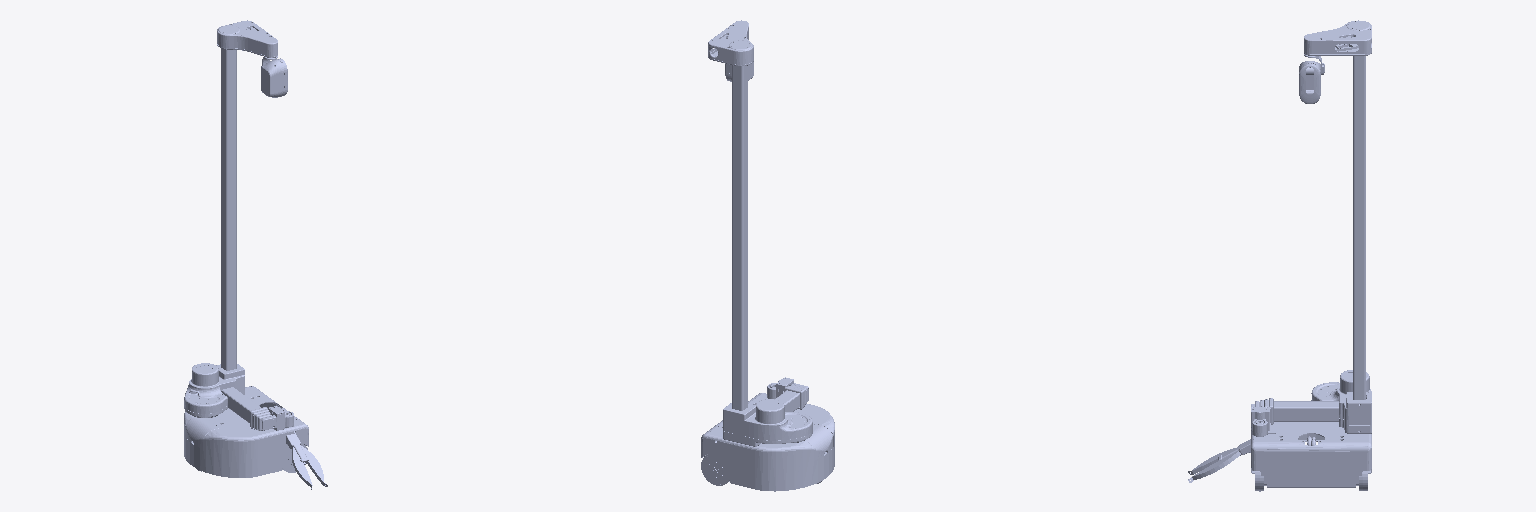
--- Facts derived from the render (not from the file) ---
Views: 3 orthographic renders of the robot side by side, from view 1: azimuth 30°, elevation 25°; view 2: azimuth 150°, elevation 25°; view 3: azimuth 270°, elevation 25°.
Robot: stretch_description — 37 links, 36 joints (5 revolute, 2 continuous, 5 prismatic, 24 fixed); root link base_link; default pose: all joints at 0.
Links seen in each view (by area): view 1: base_link, link_mast, link_lift, link_head, link_head_tilt, link_arm_l4, link_arm_l0; view 2: base_link, link_mast, link_lift, link_head, link_left_wheel; view 3: base_link, link_mast, link_lift, link_head, link_arm_l4, link_head_tilt.
Link boxes in pixels (x1,y1,x2,y2): base_link: [184, 386, 308, 477]; link_mast: [221, 48, 236, 370]; link_lift: [184, 363, 244, 417]; link_head: [217, 20, 277, 57]; link_head_tilt: [261, 58, 287, 97]; link_arm_l4: [221, 387, 267, 428]; link_arm_l0: [261, 406, 293, 430]; base_link: [701, 393, 834, 491]; link_mast: [732, 65, 747, 410]; link_lift: [723, 399, 812, 446]; link_head: [708, 20, 753, 65]; link_left_wheel: [701, 454, 729, 485]; base_link: [1251, 422, 1371, 487]; link_mast: [1353, 37, 1365, 399]; link_lift: [1311, 370, 1371, 433]; link_head: [1304, 20, 1371, 55]; link_arm_l4: [1269, 398, 1338, 424]; link_head_tilt: [1299, 61, 1320, 103].
Size in the robot's own frame: 0.3273 by 0.5191 by 1.41 metres.
Meshes: 27 distinct files referenced, 22 mesh visuals loaded (22 binary STL); not drawn: 5 (reference not matched to a file when rendering).

robot.urdf — stretch_description:
<?xml version="1.0" ?>
<!-- =================================================================================== -->
<!-- |    This document was autogenerated by xacro from stretch_description.xacro      | -->
<!-- |    EDITING THIS FILE BY HAND IS NOT RECOMMENDED                                 | -->
<!-- =================================================================================== -->
<robot name="stretch_description" xmlns:xacro="http://www.ros.org/wiki/xacro">
  <link name="link_gripper">
    <inertial>
      <origin rpy="0 0 0" xyz="-0.0170229132730066 0.0131410320934285 -0.0371614759484659"/>
      <mass value="0.101902711393094"/>
      <inertia ixx="2.79241618017607E-05" ixy="-1.10819247449605E-05" ixz="-1.50343284036654E-05" iyy="3.67945130513069E-05" iyz="-4.33280448535579E-06" izz="4.14524691955231E-05"/>
    </inertial>
    <visual>
      <origin rpy="0 0 0" xyz="0 0 0"/>
      <geometry>
        <mesh filename="meshes/link_gripper.STL"/>
      </geometry>
      <material name="">
        <color rgba="0.792156862745098 0.819607843137255 0.933333333333333 1"/>
      </material>
    </visual>
    <collision>
      <origin rpy="0 0 0" xyz="0 0 0"/>
      <geometry>
        <mesh filename="meshes/link_gripper.STL"/>
      </geometry>
    </collision>
  </link>
  <!-- rpy="3.1416 0 1.5708" -->
  <!-- rpy="0.0 0 1.5708" -->
  <joint name="joint_gripper" type="fixed">
    <origin rpy="3.14159 0 -1.5708" xyz="0 0 0"/>
    <parent link="link_wrist_yaw"/>
    <child link="link_gripper"/>
    <axis xyz="0 0 0"/>
  </joint>
  <link name="link_gripper_finger_left">
    <inertial>
      <origin rpy="0 0 0" xyz="0.0945047483510102 0.0124301080924361 -4.44089209850063E-16"/>
      <mass value="0.0476207785199474"/>
      <inertia ixx="0" ixy="0" ixz="0" iyy="0" iyz="0" izz="0"/>
    </inertial>
    <visual>
      <origin rpy="0 0 0" xyz="0 0 0"/>
      <geometry>
        <mesh filename="meshes/link_gripper_finger_left.STL" scale="0.9 1.0 1.0"/>
      </geometry>
      <material name="">
        <color rgba="0.792156862745098 0.819607843137255 0.933333333333333 1"/>
      </material>
    </visual>
    <collision>
      <origin rpy="0 0 0" xyz="0 0 0"/>
      <geometry>
        <mesh filename="meshes/link_gripper_finger_left.STL" scale="0.9 1.0 1.0"/>
      </geometry>
    </collision>
  </link>
  <joint name="joint_gripper_finger_left" type="revolute">
    <origin rpy="2.1762E-15 0.5236 3.1416" xyz="-0.047231 -0.010151 -0.04679"/>
    <parent link="link_gripper"/>
    <child link="link_gripper_finger_left"/>
    <axis xyz="0 0 1"/>
    <limit effort="100" lower="-0.6" upper="0.6" velocity="1.0"/>
  </joint>
  <link name="link_gripper_fingertip_left">
    <inertial>
      <origin rpy="0 0 0" xyz="-3.16381381648689E-08 -2.91408530639359E-09 0.00812579670381812"/>
      <mass value="0.00382159917455729"/>
      <inertia ixx="0" ixy="0" ixz="0" iyy="0" iyz="0" izz="0"/>
    </inertial>
    <visual>
      <origin rpy="0 0 0" xyz="0 0 0"/>
      <geometry>
        <mesh filename="meshes/link_gripper_fingertip_left.STL"/>
      </geometry>
      <material name="">
        <color rgba="0.250980392156863 0.250980392156863 0.250980392156863 1"/>
      </material>
    </visual>
    <collision>
      <origin rpy="0 0 0" xyz="0 0 0"/>
      <geometry>
        <mesh filename="meshes/link_gripper_fingertip_left.STL"/>
      </geometry>
    </collision>
  </link>
  <joint name="joint_gripper_fingertip_left" type="fixed">
    <origin rpy="-1.5708 -4.774E-15 -2.5545" xyz="0.171099 0.014912 0"/>
    <parent link="link_gripper_finger_left"/>
    <child link="link_gripper_fingertip_left"/>
    <axis xyz="0 0 0"/>
  </joint>
  <link name="link_gripper_finger_right">
    <inertial>
      <origin rpy="0 0 0" xyz="-0.0945047483510099 -0.0124301080924345 0"/>
      <mass value="0.0476207785199481"/>
      <inertia ixx="0" ixy="0" ixz="0" iyy="0" iyz="0" izz="0"/>
    </inertial>
    <visual>
      <origin rpy="0 0 0" xyz="0 0 0"/>
      <geometry>
        <mesh filename="meshes/link_gripper_finger_right.STL" scale="0.9 1.0 1.0"/>
      </geometry>
      <material name="">
        <color rgba="0.792156862745098 0.819607843137255 0.933333333333333 1"/>
      </material>
    </visual>
    <collision>
      <origin rpy="0 0 0" xyz="0 0 0"/>
      <geometry>
        <mesh filename="meshes/link_gripper_finger_right.STL" scale="0.9 1.0 1.0"/>
      </geometry>
    </collision>
  </link>
  <joint name="joint_gripper_finger_right" type="revolute">
    <origin rpy="3.1416 -0.5236 1.2943E-15" xyz="-0.047231 0.010049 -0.04679"/>
    <parent link="link_gripper"/>
    <child link="link_gripper_finger_right"/>
    <axis xyz="0 0 1"/>
    <limit effort="100" lower="-0.6" upper="0.6" velocity="1.0"/>
  </joint>
  <link name="link_gripper_fingertip_right">
    <inertial>
      <origin rpy="0 0 0" xyz="2.59386303963494E-08 6.70949018566347E-09 0.00812579516130402"/>
      <mass value="0.00382160037319545"/>
      <inertia ixx="0" ixy="0" ixz="0" iyy="0" iyz="0" izz="0"/>
    </inertial>
    <visual>
      <origin rpy="0 0 0" xyz="0 0 0"/>
      <geometry>
        <mesh filename="meshes/link_gripper_fingertip_right.STL"/>
      </geometry>
      <material name="">
        <color rgba="0.250980392156863 0.250980392156863 0.250980392156863 1"/>
      </material>
    </visual>
    <collision>
      <origin rpy="0 0 0" xyz="0 0 0"/>
      <geometry>
        <mesh filename="meshes/link_gripper_fingertip_right.STL"/>
      </geometry>
    </collision>
  </link>
  <joint name="joint_gripper_fingertip_right" type="fixed">
    <origin rpy="-1.5708 -2.0539E-15 0.58705" xyz="-0.171099 -0.014912 0"/>
    <parent link="link_gripper_finger_right"/>
    <child link="link_gripper_fingertip_right"/>
    <axis xyz="0 0 0"/>
  </joint>
  <link name="link_grasp_center">
    <inertial>
      <origin rpy="0 0 0" xyz="0 0 0"/>
      <mass value="0.1"/>
      <inertia ixx="1" ixy="0" ixz="0" iyy="1" iyz="0" izz="1"/>
    </inertial>
  </link>
  <joint name="joint_grasp_center" type="fixed">
    <origin rpy="0 0 3.141579" xyz="-0.205478 0 -0.138154"/>
    <parent link="link_gripper"/>
    <child link="link_grasp_center"/>
  </joint>
  <link name="base_link">
    <inertial>
      <origin rpy="0 0 0" xyz="-0.109461304328163 -0.000741018909047708 0.0914915269429946"/>
      <mass value="1.0723782659782"/>
      <inertia ixx="0.00310580907710135" ixy="1.5182848191076E-06" ixz="0.00041690466732394" iyy="0.00433798719991832" iyz="1.33487716258445E-05" izz="0.0037204727467362"/>
    </inertial>
    <visual>
      <origin rpy="0 0 0" xyz="0 0 0"/>
      <geometry>
          <mesh filename="meshes/base_link.STL"/> <!--scale="0.98 0.98 0.98"/>-->
      </geometry>
      <material name="">
        <color rgba="0.792156862745098 0.819607843137255 0.933333333333333 1"/>
      </material>
    </visual>
    <collision>
      <origin rpy="0 0 0" xyz="0 0 0"/>
      <geometry>
          <mesh filename="meshes/base_link.STL"/> <!--scale="0.98 0.98 0.98"/>-->
      </geometry>
    </collision>
  </link>
  <link name="link_right_wheel">
    <inertial>
      <origin rpy="0 0 0" xyz="1.25554620866719E-07 3.54748938447003E-07 0.0239581106165018"/>
      <mass value="0.00356714564938475"/>
      <inertia ixx="0" ixy="0" ixz="0" iyy="0" iyz="0" izz="0"/>
    </inertial>
    <visual>
      <origin rpy="0 0 0" xyz="0 0 0"/>
      <geometry>
        <mesh filename="meshes/link_right_wheel.STL"/>
      </geometry>
      <material name="">
        <color rgba="0.792156862745098 0.819607843137255 0.933333333333333 1"/>
      </material>
    </visual>
    <collision>
      <origin rpy="0 0 0" xyz="0 0 0"/>
      <geometry>
        <mesh filename="meshes/link_right_wheel.STL"/>
      </geometry>
    </collision>
  </link>
  <joint name="joint_right_wheel" type="continuous">
    <origin rpy="-1.57079632679489 -1.11022302462516E-16 7.28583859910277E-17" xyz="-0.003 -0.15765 0.0508"/>
    <parent link="base_link"/>
    <child link="link_right_wheel"/>
    <axis xyz="0 0 1"/>
  </joint>
  <link name="link_left_wheel">
    <inertial>
      <origin rpy="0 0 0" xyz="1.2555462092223E-07 -3.54748938502514E-07 -0.0239581106165035"/>
      <mass value="0.00356714564938459"/>
      <inertia ixx="0" ixy="0" ixz="0" iyy="0" iyz="0" izz="0"/>
    </inertial>
    <visual>
      <origin rpy="0 0 0" xyz="0 0 0"/>
      <geometry>
        <mesh filename="meshes/link_left_wheel.STL"/>
      </geometry>
      <material name="">
        <color rgba="0.792156862745098 0.819607843137255 0.933333333333333 1"/>
      </material>
    </visual>
    <collision>
      <origin rpy="0 0 0" xyz="0 0 0"/>
      <geometry>
        <mesh filename="meshes/link_left_wheel.STL"/>
      </geometry>
    </collision>
  </link>
  <joint name="joint_left_wheel" type="continuous">
    <origin rpy="-1.5707963267949 3.16227047920818E-31 7.88745438253713E-16" xyz="-0.003 0.15765 0.0508"/>
    <parent link="base_link"/>
    <child link="link_left_wheel"/>
    <axis xyz="0 0 1"/>
  </joint>
  <link name="link_mast">
    <inertial>
      <origin rpy="0 0 0" xyz="0.00755818572975822 0.773971284176834 0.00647313086620024"/>
      <mass value="0.749143203376401"/>
      <inertia ixx="0.0709854511954588" ixy="-0.00433428742758457" ixz="-0.000186110788697573" iyy="0.000437922053342648" iyz="-0.00288788257713431" izz="0.071104808501661"/>
    </inertial>
    <visual>
      <origin rpy="0 0 0" xyz="0 0 0"/>
      <geometry>
        <mesh filename="meshes/link_mast.STL"/>
      </geometry>
      <material name="">
        <color rgba="0.792156862745098 0.819607843137255 0.933333333333333 1"/>
      </material>
    </visual>
    <collision>
      <origin rpy="0 0 0" xyz="0 0 0"/>
      <geometry>
        <mesh filename="meshes/link_mast.STL"/>
      </geometry>
    </collision>
  </link>
  <joint name="joint_mast" type="fixed">
    <origin rpy="1.5707963267949 0 0.00925318926571245" xyz="-0.07 0.134999999999998 0.0284000000000001"/>
    <parent link="base_link"/>
    <child link="link_mast"/>
    <axis xyz="0 0 0"/>
  </joint>
  <link name="link_lift">
    <inertial>
      <origin rpy="0 0 0" xyz="-0.0547636346252869 0.0380939689802074 0.00933159404448308"/>
      <mass value="0.444820831236007"/>
      <inertia ixx="0.000567192946271367" ixy="-0.00024607534789508" ixz="-0.000128108442260574" iyy="0.00127108364478659" iyz="7.61916855070339E-06" izz="0.00137296635099006"/>
    </inertial>
    <visual>
      <origin rpy="0 0 0" xyz="0 0 0"/>
      <geometry>
        <mesh filename="meshes/link_lift.STL"/>
      </geometry>
      <material name="">
        <color rgba="0.792156862745098 0.819607843137255 0.933333333333333 1"/>
      </material>
    </visual>
    <collision>
      <origin rpy="0 0 0" xyz="0 0 0"/>
      <geometry>
        <mesh filename="meshes/link_lift.STL"/>
      </geometry>
    </collision>
  </link>
  <joint name="joint_lift" type="prismatic">
    <origin rpy="-1.57079632679552 1.5615431375292 -6.2942004366467E-13" xyz="-0.0369217062323472 0.165471199999996 -0.000341653286793524"/>
    <parent link="link_mast"/>
    <child link="link_lift"/>
    <axis xyz="0 0 1"/>
    <!-- for now: hand copied range_m: from lift: from ~/repos/stretch_fleet/stretch-re1-1001/stretch_re1_factory_params.yaml -->
    <!--<limit effort="100" lower="0.0" upper="1.095" velocity="1.0"/>-->
    <!-- copied value did not reach the top of mesh model with GUI sliders and RViz -->
    <limit effort="100" lower="0.0" upper="1.1" velocity="1.0"/>
  </joint>
  <link name="link_arm_l4">
    <inertial>
      <origin rpy="0 0 0" xyz="-1.61247276464493E-06 1.54715589201215E-06 -0.0953252706040035"/>
      <mass value="0.0676525455789735"/>
      <inertia ixx="0.000122002023066796" ixy="7.29593356230121E-13" ixz="9.63170353371061E-09" iyy="0.000122002023127152" iyz="-9.24154949889042E-09" izz="1.46043439809638E-12"/>
    </inertial>
    <visual>
      <origin rpy="0 0 0" xyz="0 0 0"/>
      <geometry>
        <mesh filename="meshes/link_arm_l4.STL"/>
      </geometry>
      <material name="">
        <color rgba="0.792156862745098 0.819607843137255 0.933333333333333 1"/>
      </material>
    </visual>
    <collision>
      <origin rpy="0 0 0" xyz="0 0 0"/>
      <geometry>
        <mesh filename="meshes/link_arm_l4.STL"/>
      </geometry>
    </collision>
  </link>
  <joint name="joint_arm_l4" type="fixed">
    <origin rpy="1.5708 -3.1019E-16 -1.5708" xyz="-0.25471 0 0"/>
    <parent link="link_lift"/>
    <child link="link_arm_l4"/>
    <axis xyz="0 0 0"/>
  </joint>
  <link name="link_arm_l3">
    <inertial>
      <origin rpy="0 0 0" xyz="-3.34873468621488E-07 4.7411336306924E-07 -0.0974069598289041"/>
      <mass value="0.0626921047058405"/>
      <inertia ixx="0.000115246639451415" ixy="4.42139679831176E-14" ixz="1.89711279909763E-09" iyy="0.000115246639420046" iyz="-2.68592949587539E-09" izz="9.38270676408352E-14"/>
    </inertial>
    <visual>
      <origin rpy="0 0 0" xyz="0 0 0"/>
      <geometry>
        <mesh filename="meshes/link_arm_l3.STL"/>
      </geometry>
      <material name="">
        <color rgba="0.792156862745098 0.819607843137255 0.933333333333333 1"/>
      </material>
    </visual>
    <collision>
      <origin rpy="0 0 0" xyz="0 0 0"/>
      <geometry>
        <mesh filename="meshes/link_arm_l3.STL"/>
      </geometry>
    </collision>
  </link>
  <joint name="joint_arm_l3" type="prismatic">
    <origin rpy="3.5742E-16 3.2123E-16 -2.4565E-16" xyz="0 0 0.013"/>
    <parent link="link_arm_l4"/>
    <child link="link_arm_l3"/>
    <axis xyz="0 0 1"/>
    <!-- 0.13 = 0.52/4-->
    <limit effort="100" lower="0.0" upper="0.13" velocity="1.0"/>
  </joint>
  <link name="link_arm_l2">
    <inertial>
      <origin rpy="0 0 0" xyz="-3.31043560508615E-07 3.13422303999111E-07 -0.097255883541891"/>
      <mass value="0.0569074368576238"/>
      <inertia ixx="0.000105206697151872" ixy="2.59896259031046E-14" ixz="1.69941454517918E-09" iyy="0.000105206697154717" iyz="-1.60895568923743E-09" izz="5.20570301686304E-14"/>
    </inertial>
    <visual>
      <origin rpy="0 0 0" xyz="0 0 0"/>
      <geometry>
        <mesh filename="meshes/link_arm_l2.STL"/>
      </geometry>
      <material name="">
        <color rgba="0.792156862745098 0.819607843137255 0.933333333333333 1"/>
      </material>
    </visual>
    <collision>
      <origin rpy="0 0 0" xyz="0 0 0"/>
      <geometry>
        <mesh filename="meshes/link_arm_l2.STL"/>
      </geometry>
    </collision>
  </link>
  <joint name="joint_arm_l2" type="prismatic">
    <origin rpy="2.91385731014123E-16 4.44300759504684E-17 3.25691080516352E-16" xyz="0 0 0.013"/>
    <parent link="link_arm_l3"/>
    <child link="link_arm_l2"/>
    <axis xyz="0 0 1"/>
    <!-- 0.13 = 0.52/4-->
    <limit effort="100" lower="0.0" upper="0.13" velocity="1.0"/>
  </joint>
  <link name="link_arm_l1">
    <inertial>
      <origin rpy="0 0 0" xyz="-3.36876635420591E-07 3.05876091066803E-07 -0.0969117032232756"/>
      <mass value="0.0511763619538321"/>
      <inertia ixx="9.58490021274768E-05" ixy="2.27446667584309E-14" ixz="1.54951672295709E-09" iyy="9.5849002131875E-05" iyz="-1.40692486873422E-09" izz="4.57014633924348E-14"/>
    </inertial>
    <visual>
      <origin rpy="0 0 0" xyz="0 0 0"/>
      <geometry>
        <mesh filename="meshes/link_arm_l1.STL"/>
      </geometry>
      <material name="">
        <color rgba="0.792156862745098 0.819607843137255 0.933333333333333 1"/>
      </material>
    </visual>
    <collision>
      <origin rpy="0 0 0" xyz="0 0 0"/>
      <geometry>
        <mesh filename="meshes/link_arm_l1.STL"/>
      </geometry>
    </collision>
  </link>
  <joint name="joint_arm_l1" type="prismatic">
    <origin rpy="7.41596560408007E-17 1.33876788296791E-16 -2.44545873596083E-16" xyz="0 0 0.013"/>
    <parent link="link_arm_l2"/>
    <child link="link_arm_l1"/>
    <axis xyz="0 0 1"/>
    <!-- 0.13 = 0.52/4-->
    <limit effort="100" lower="0.0" upper="0.13" velocity="1.0"/>
  </joint>
  <link name="link_arm_l0">
    <inertial>
      <origin rpy="0 0 0" xyz="0.0230715049668191 -0.00195115833662818 -0.0360646347160285"/>
      <mass value="0.101241250325294"/>
      <inertia ixx="0.000227156999010352" ixy="8.90680620109423E-06" ixz="-7.91132210985695E-05" iyy="0.000300732790537324" iyz="7.21771824540896E-06" izz="9.35784422621597E-05"/>
    </inertial>
    <visual>
      <origin rpy="0 0 0" xyz="0 0 0"/>
      <geometry>
        <mesh filename="meshes/link_arm_l0.STL"/>
      </geometry>
      <material name="">
        <color rgba="0.792156862745098 0.819607843137255 0.933333333333333 1"/>
      </material>
    </visual>
    <collision>
      <origin rpy="0 0 0" xyz="0 0 0"/>
      <geometry>
        <mesh filename="meshes/link_arm_l0.STL"/>
      </geometry>
    </collision>
  </link>
  <joint name="joint_arm_l0" type="prismatic">
    <origin rpy="-3.05317390622457E-16 -4.23236224076729E-16 -2.68425135229209E-17" xyz="0 0 -0.0137499999999938"/>
    <parent link="link_arm_l1"/>
    <child link="link_arm_l0"/>
    <axis xyz="0 0 1"/>
    <!-- 0.13 = 0.52/4-->
    <limit effort="100" lower="0.0" upper="0.13" velocity="1.0"/>
  </joint>
  <link name="link_wrist_yaw">
    <inertial>
      <origin rpy="0 0 0" xyz="-8.02795716750571E-06 1.93811447768422E-05 0.018946700595851"/>
      <mass value="0.0405398981326229"/>
      <inertia ixx="2.20062857967227E-09" ixy="1.15494401227051E-13" ixz="1.02598056874346E-11" iyy="2.20039759185237E-09" iyz="-2.47692875363392E-11" izz="3.26666802416509E-13"/>
    </inertial>
    <visual>
      <origin rpy="0 0 0" xyz="0 0 0"/>
      <geometry>
        <mesh filename="meshes/link_wrist_yaw.STL"/>
      </geometry>
      <material name="">
        <color rgba="0.792156862745098 0.819607843137255 0.933333333333333 1"/>
      </material>
    </visual>
    <collision>
      <origin rpy="0 0 0" xyz="0 0 0"/>
      <geometry>
        <mesh filename="meshes/link_wrist_yaw.STL"/>
      </geometry>
    </collision>
  </link>
  <joint name="joint_wrist_yaw" type="revolute">
    <origin rpy="1.5708 4.2595E-14 2.6415E-15" xyz="0.083 -0.03075 0"/>
    <parent link="link_arm_l0"/>
    <child link="link_wrist_yaw"/>
    <axis xyz="0 0 -1"/>
    <!--
	stowed to front ~225 deg: 3.15159 x 1.25 = 3.9395
	using 4.0
	stowed to back ~100 deg:  100 / 180 x 3.14159 = 1.7453
	using -1.75
    -->
    <limit effort="100" lower="-1.75" upper="4.0" velocity="1.0"/>
  </joint>
  <link name="link_head">
    <inertial>
      <origin rpy="0 0 0" xyz="0.0372933550588956 0.045509432985552 0.0281136801213409"/>
      <mass value="0.129454717596498"/>
      <inertia ixx="2.9340596231093E-05" ixy="-7.89638931853666E-07" ixz="-4.74678128515878E-06" iyy="2.68283736177377E-05" iyz="1.80251508621876E-06" izz="1.4617291423745E-05"/>
    </inertial>
    <visual>
      <origin rpy="0 0 0" xyz="0 0 0"/>
      <geometry>
        <mesh filename="meshes/link_head.STL"/>
      </geometry>
      <material name="">
        <color rgba="0.792156862745098 0.819607843137255 0.933333333333333 1"/>
      </material>
    </visual>
    <collision>
      <origin rpy="0 0 0" xyz="0 0 0"/>
      <geometry>
        <mesh filename="meshes/link_head.STL"/>
      </geometry>
    </collision>
  </link>
  <joint name="joint_head" type="fixed">
    <origin rpy="1.5708 -1.5615 3.1416" xyz="0 1.33 0"/>
    <parent link="link_mast"/>
    <child link="link_head"/>
    <axis xyz="0 0 0"/>
  </joint>
  <link name="link_head_pan">
    <inertial>
      <origin rpy="0 0 0" xyz="-0.00116200255310878 0.0130365621706306 0.00137629842298681"/>
      <mass value="0.035858341182617"/>
      <inertia ixx="2.75847937559827E-05" ixy="5.25762707913649E-07" ixz="-9.28796751052893E-07" iyy="2.08815921106858E-05" iyz="1.17265055331737E-05" izz="6.78612505435872E-06"/>
    </inertial>
    <visual>
      <origin rpy="0 0 0" xyz="0 0 0"/>
      <geometry>
        <mesh filename="meshes/link_head_pan.STL"/>
      </geometry>
      <material name="">
        <color rgba="0.792156862745098 0.819607843137255 0.933333333333333 1"/>
      </material>
    </visual>
    <collision>
      <origin rpy="0 0 0" xyz="0 0 0"/>
      <geometry>
        <mesh filename="meshes/link_head_pan.STL"/>
      </geometry>
    </collision>
  </link>
  <joint name="joint_head_pan" type="revolute">
    <origin rpy="-6.4986E-15 -6.068E-24 1.5708" xyz="0.135 0.0731 -0.003"/>
    <parent link="link_head"/>
    <child link="link_head_pan"/>
    <axis xyz="0 0 1"/>
    <!-- unconstrained range for now -->
    <limit effort="100" lower="-3.9" upper="1.5" velocity="1.0"/>
  </joint>
  <link name="link_head_tilt">
    <inertial>
      <origin rpy="0 0 0" xyz="0.00920211049011871 -0.0279724762416447 0.0306580436227023"/>
      <mass value="0.0701242408063442"/>
      <inertia ixx="1.73265934767466E-05" ixy="2.38363792824069E-07" ixz="7.96430204321056E-08" iyy="4.11044416077217E-05" iyz="-9.41955638215997E-07" izz="2.38851808140542E-05"/>
    </inertial>
    <visual>
      <origin rpy="0 0 0" xyz="0 0 0"/>
      <geometry>
        <mesh filename="meshes/link_head_tilt.STL"/>
      </geometry>
      <material name="">
        <color rgba="0.792156862745098 0.819607843137255 0.933333333333333 1"/>
      </material>
    </visual>
    <collision>
      <origin rpy="0 0 0" xyz="0 0 0"/>
      <geometry>
        <mesh filename="meshes/link_head_tilt.STL"/>
      </geometry>
    </collision>
  </link>
  <joint name="joint_head_tilt" type="revolute">
    <origin rpy="1.5708 6.068E-24 -2.5165E-15" xyz="-0.0013 0.027507 -0.053311"/>
    <parent link="link_head_pan"/>
    <child link="link_head_tilt"/>
    <axis xyz="0 0 1"/>
    <!-- unconstrained range for now -->
    <limit effort="100" lower="-1.53" upper="0.79" velocity="1.0"/>
  </joint>
  <link name="link_aruco_right_base">
    <inertial>
      <origin rpy="0 0 0" xyz="0 0 -5.00000000014378E-07"/>
      <mass value="3.59999999990368E-06"/>
      <inertia ixx="0" ixy="0" ixz="0" iyy="0" iyz="0" izz="0"/>
    </inertial>
    <visual>
      <origin rpy="0 0 0" xyz="0 0 0"/>
      <geometry>
        <mesh filename="meshes/link_aruco_right_base.STL"/>
      </geometry>
      <material name="">
        <color rgba="0.792156862745098 0.819607843137255 0.933333333333333 1"/>
      </material>
    </visual>
    <collision>
      <origin rpy="0 0 0" xyz="0 0 0"/>
      <geometry>
        <mesh filename="meshes/link_aruco_right_base.STL"/>
      </geometry>
    </collision>
  </link>
  <joint name="joint_aruco_right_base" type="fixed">
    <origin rpy="0 0 -1.5707963267949" xyz="-0.00500000000000014 -0.1304972 0.1597482"/>
    <parent link="base_link"/>
    <child link="link_aruco_right_base"/>
    <axis xyz="0 0 0"/>
  </joint>
  <link name="link_aruco_left_base">
    <inertial>
      <origin rpy="0 0 0" xyz="0 0 -5.00000000014378E-07"/>
      <mass value="3.59999999990368E-06"/>
      <inertia ixx="0" ixy="0" ixz="0" iyy="0" iyz="0" izz="0"/>
    </inertial>
    <visual>
      <origin rpy="0 0 0" xyz="0 0 0"/>
      <geometry>
        <mesh filename="meshes/link_aruco_left_base.STL"/>
      </geometry>
      <material name="">
        <color rgba="0.792156862745098 0.819607843137255 0.933333333333333 1"/>
      </material>
    </visual>
    <collision>
      <origin rpy="0 0 0" xyz="0 0 0"/>
      <geometry>
        <mesh filename="meshes/link_aruco_left_base.STL"/>
      </geometry>
    </collision>
  </link>
  <joint name="joint_aruco_left_base" type="fixed">
    <origin rpy="0 0 -1.5707963267949" xyz="-0.00500000000000014 0.1304972 0.1597482"/>
    <parent link="base_link"/>
    <child link="link_aruco_left_base"/>
    <axis xyz="0 0 0"/>
  </joint>
  <link name="link_aruco_shoulder">
    <inertial>
      <origin rpy="0 0 0" xyz="-2.77555756156289E-17 2.56739074444567E-16 -0.000125000000000042"/>
      <mass value="0.000399141592653546"/>
      <inertia ixx="0" ixy="0" ixz="0" iyy="0" iyz="0" izz="0"/>
    </inertial>
    <visual>
      <origin rpy="0 0 0" xyz="0 0 0"/>
      <geometry>
        <mesh filename="meshes/link_aruco_shoulder.STL"/>
      </geometry>
      <material name="">
        <color rgba="0.792156862745098 0.819607843137255 0.933333333333333 1"/>
      </material>
    </visual>
    <collision>
      <origin rpy="0 0 0" xyz="0 0 0"/>
      <geometry>
        <mesh filename="meshes/link_aruco_shoulder.STL"/>
      </geometry>
    </collision>
  </link>
  <joint name="joint_aruco_shoulder" type="fixed">
    <origin rpy="-1.53998860117704E-29 3.55962409571165E-15 0.0" xyz="-0.0133768876375287 0.0558540528812078 0.0861368272417975"/>
    <parent link="link_lift"/>
    <child link="link_aruco_shoulder"/>
    <axis xyz="0 0 0"/>
  </joint>
  <link name="link_aruco_top_wrist">
    <inertial>
      <origin rpy="0 0 0" xyz="1.11022302462516E-16 3.05311331771918E-16 -0.00012499999999821"/>
      <mass value="0.000224999999999975"/>
      <inertia ixx="0" ixy="0" ixz="0" iyy="0" iyz="0" izz="0"/>
    </inertial>
    <visual>
      <origin rpy="0 0 0" xyz="0 0 0"/>
      <geometry>
        <mesh filename="meshes/link_aruco_top_wrist.STL"/>
      </geometry>
      <material name="">
        <color rgba="0.792156862745098 0.819607843137255 0.933333333333333 1"/>
      </material>
    </visual>
    <collision>
      <origin rpy="0 0 0" xyz="0 0 0"/>
      <geometry>
        <mesh filename="meshes/link_aruco_top_wrist.STL"/>
      </geometry>
    </collision>
  </link>
  <joint name="joint_aruco_top_wrist" type="fixed">
    <origin rpy="1.5707963267949 -8.03728587323464E-15 3.14159265358979" xyz="0.0472500000000019 0.0292850000000015 0"/>
    <parent link="link_arm_l0"/>
    <child link="link_aruco_top_wrist"/>
    <axis xyz="0 0 0"/>
  </joint>
  <link name="link_aruco_inner_wrist">
    <inertial>
      <origin rpy="0 0 0" xyz="8.32667268468867E-17 1.77635683940025E-15 -0.000125000000000264"/>
      <mass value="0.000225"/>
      <inertia ixx="0" ixy="0" ixz="0" iyy="0" iyz="0" izz="0"/>
    </inertial>
    <visual>
      <origin rpy="0 0 0" xyz="0 0 0"/>
      <geometry>
        <mesh filename="meshes/link_aruco_inner_wrist.STL"/>
      </geometry>
      <material name="">
        <color rgba="0.792156862745098 0.819607843137255 0.933333333333333 1"/>
      </material>
    </visual>
    <collision>
      <origin rpy="0 0 0" xyz="0 0 0"/>
      <geometry>
        <mesh filename="meshes/link_aruco_inner_wrist.STL"/>
      </geometry>
    </collision>
  </link>
  <joint name="joint_aruco_inner_wrist" type="fixed">
    <origin rpy="3.14159265358979 4.23377442363088E-14 3.14159265358979" xyz="0.0472499999999947 -0.0119000000000034 -0.0272499999991938"/>
    <parent link="link_arm_l0"/>
    <child link="link_aruco_inner_wrist"/>
    <axis xyz="0 0 0"/>
  </joint>
  <material name="aluminum">
    <color rgba="0.5 0.5 0.5 1"/>
  </material>
  <!-- camera body, with origin at bottom screw mount -->
  <joint name="camera_joint" type="fixed">
    <origin rpy="0.0 0.0 0.0" xyz="0.03 -0.0122 0.0182"/>
    <parent link="link_head_tilt"/>
    <child link="camera_bottom_screw_frame"/>
  </joint>
  <link name="camera_bottom_screw_frame">
    <inertial>
      <origin rpy="0 0 0" xyz="0 0 0"/>
      <mass value="0"/>
      <inertia ixx="1" ixy="0" ixz="0" iyy="1" iyz="0" izz="1"/>
    </inertial>
  </link>
  <joint name="camera_link_joint" type="fixed">
    <origin rpy="0 0 0" xyz="0.0106 0.0175 0.0125"/>
    <parent link="camera_bottom_screw_frame"/>
    <child link="camera_link"/>
  </joint>
  <link name="camera_link">
    <visual>
      <!-- the mesh origin is at front plate in between the two infrared camera axes -->
      <origin rpy="1.57079632679 0 1.57079632679" xyz="0.0043 -0.0175 0"/>
      <geometry>
        <!-- <box size="${d435_cam_width} ${d435_cam_height} ${d435_cam_depth}"/> -->
        <mesh filename="meshes/d435.dae"/>
      </geometry>
    </visual>
    <collision>
      <origin rpy="0 0 0" xyz="0 -0.0175 0"/>
      <geometry>
        <box size="0.02505 0.09 0.025"/>
      </geometry>
    </collision>
    <inertial>
      <!-- The following are not reliable values, and should not be used for modeling -->
      <mass value="0.564"/>
      <origin xyz="0 0 0"/>
      <inertia ixx="0.003881243" ixy="0.0" ixz="0.0" iyy="0.000498940" iyz="0.0" izz="0.003879257"/>
    </inertial>
  </link>
  <!-- camera depth joints and links -->
  <joint name="camera_depth_joint" type="fixed">
    <origin rpy="0 0 0" xyz="0 0 0"/>
    <parent link="camera_link"/>
    <child link="camera_depth_frame"/>
  </joint>
  <link name="camera_depth_frame">
    <inertial>
      <origin rpy="0 0 0" xyz="0 0 0"/>
      <mass value="0"/>
      <inertia ixx="1" ixy="0" ixz="0" iyy="1" iyz="0" izz="1"/>
    </inertial>
  </link>
  <joint name="camera_depth_optical_joint" type="fixed">
    <origin rpy="-1.57079632679 0 -1.57079632679" xyz="0 0 0"/>
    <parent link="camera_depth_frame"/>
    <child link="camera_depth_optical_frame"/>
  </joint>
  <link name="camera_depth_optical_frame">
    <inertial>
      <origin rpy="0 0 0" xyz="0 0 0"/>
      <mass value="0"/>
      <inertia ixx="1" ixy="0" ixz="0" iyy="1" iyz="0" izz="1"/>
    </inertial>
  </link>
  <!-- camera left IR joints and links -->
  <joint name="camera_infra1_joint" type="fixed">
    <origin rpy="0 0 0" xyz="0 0.0 0"/>
    <parent link="camera_link"/>
    <child link="camera_infra1_frame"/>
  </joint>
  <link name="camera_infra1_frame">
    <inertial>
      <origin rpy="0 0 0" xyz="0 0 0"/>
      <mass value="0"/>
      <inertia ixx="1" ixy="0" ixz="0" iyy="1" iyz="0" izz="1"/>
    </inertial>
  </link>
  <joint name="camera_infra1_optical_joint" type="fixed">
    <origin rpy="-1.57079632679 0 -1.57079632679" xyz="0 0 0"/>
    <parent link="camera_infra1_frame"/>
    <child link="camera_infra1_optical_frame"/>
  </joint>
  <link name="camera_infra1_optical_frame">
    <inertial>
      <origin rpy="0 0 0" xyz="0 0 0"/>
      <mass value="0"/>
      <inertia ixx="1" ixy="0" ixz="0" iyy="1" iyz="0" izz="1"/>
    </inertial>
  </link>
  <!-- camera right IR joints and links -->
  <joint name="camera_infra2_joint" type="fixed">
    <origin rpy="0 0 0" xyz="0 -0.05 0"/>
    <parent link="camera_link"/>
    <child link="camera_infra2_frame"/>
  </joint>
  <link name="camera_infra2_frame">
    <inertial>
      <origin rpy="0 0 0" xyz="0 0 0"/>
      <mass value="0"/>
      <inertia ixx="1" ixy="0" ixz="0" iyy="1" iyz="0" izz="1"/>
    </inertial>
  </link>
  <joint name="camera_infra2_optical_joint" type="fixed">
    <origin rpy="-1.57079632679 0 -1.57079632679" xyz="0 0 0"/>
    <parent link="camera_infra2_frame"/>
    <child link="camera_infra2_optical_frame"/>
  </joint>
  <link name="camera_infra2_optical_frame">
    <inertial>
      <origin rpy="0 0 0" xyz="0 0 0"/>
      <mass value="0"/>
      <inertia ixx="1" ixy="0" ixz="0" iyy="1" iyz="0" izz="1"/>
    </inertial>
  </link>
  <!-- camera color joints and links -->
  <joint name="camera_color_joint" type="fixed">
    <origin rpy="0 0 0" xyz="0 0.015 0"/>
    <parent link="camera_link"/>
    <child link="camera_color_frame"/>
  </joint>
  <link name="camera_color_frame">
    <inertial>
      <origin rpy="0 0 0" xyz="0 0 0"/>
      <mass value="0"/>
      <inertia ixx="1" ixy="0" ixz="0" iyy="1" iyz="0" izz="1"/>
    </inertial>
  </link>
  <joint name="camera_color_optical_joint" type="fixed">
    <origin rpy="-1.57079632679 0 -1.57079632679" xyz="0 0 0"/>
    <parent link="camera_color_frame"/>
    <child link="camera_color_optical_frame"/>
  </joint>
  <link name="camera_color_optical_frame">
    <inertial>
      <origin rpy="0 0 0" xyz="0 0 0"/>
      <mass value="0"/>
      <inertia ixx="1" ixy="0" ixz="0" iyy="1" iyz="0" izz="1"/>
    </inertial>
  </link>
  <link name="laser">
    <inertial>
      <origin rpy="0 0 0" xyz="0 0 -0.000755956127492408"/>
      <mass value="0.0749979022894495"/>
      <inertia ixx="0" ixy="0" ixz="0" iyy="0" iyz="0" izz="0"/>
    </inertial>
    <visual>
      <origin rpy="0 0 0" xyz="0 0 0"/>
      <geometry>
        <mesh filename="meshes/laser.STL"/>
      </geometry>
      <material name="">
        <color rgba="0.250980392156863 0.250980392156863 0.250980392156863 1"/>
      </material>
    </visual>
    <collision>
      <origin rpy="0 0 0" xyz="0 0 0"/>
      <geometry>
        <mesh filename="meshes/laser.STL"/>
      </geometry>
    </collision>
  </link>
  <joint name="joint_laser" type="fixed">
    <origin rpy="0 0 -3.14159265358979" xyz="0.000502800000000914 0 0.1664"/>
    <parent link="base_link"/>
    <child link="laser"/>
    <axis xyz="0 0 0"/>
  </joint>
  <link name="respeaker_base">
    <inertial>
      <origin rpy="0 0 0" xyz="-0.00078082896792734 0.00765742173486017 -0.0042488298301937"/>
      <mass value="0.00969129410417277"/>
      <inertia ixx="8.95656300428405E-07" ixy="2.67330745809535E-08" ixz="-3.84519793580934E-08" iyy="4.0421099617056E-07" iyz="3.15533542838673E-07" izz="7.08282597118018E-07"/>
    </inertial>
    <visual>
      <origin rpy="0 0 0" xyz="0 0 0"/>
      <geometry>
        <mesh filename="meshes/link_respeaker.STL"/>
      </geometry>
      <material name="">
        <color rgba="0.792156862745098 0.819607843137255 0.933333333333333 1"/>
      </material>
    </visual>
    <collision>
      <origin rpy="0 0 0" xyz="0 0 0"/>
      <geometry>
        <mesh filename="meshes/link_respeaker.STL"/>
      </geometry>
    </collision>
  </link>
  <joint name="joint_respeaker" type="fixed">
    <!-- rpy="   ?   rotate_sound_source_direction    ?   " -->
    <origin rpy="1.57079632679553 0.0 3.14159265358916" xyz="1.09074743137871E-05 1.36992 0.00303572796911382"/>
    <parent link="link_mast"/>
    <child link="respeaker_base"/>
    <axis xyz="0 0 0"/>
  </joint>
</robot>
